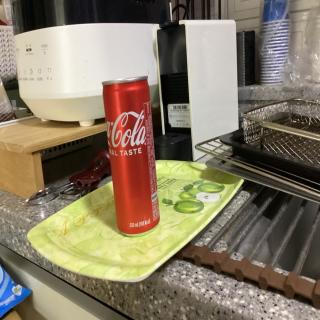cocacola: (100, 72, 162, 238)
